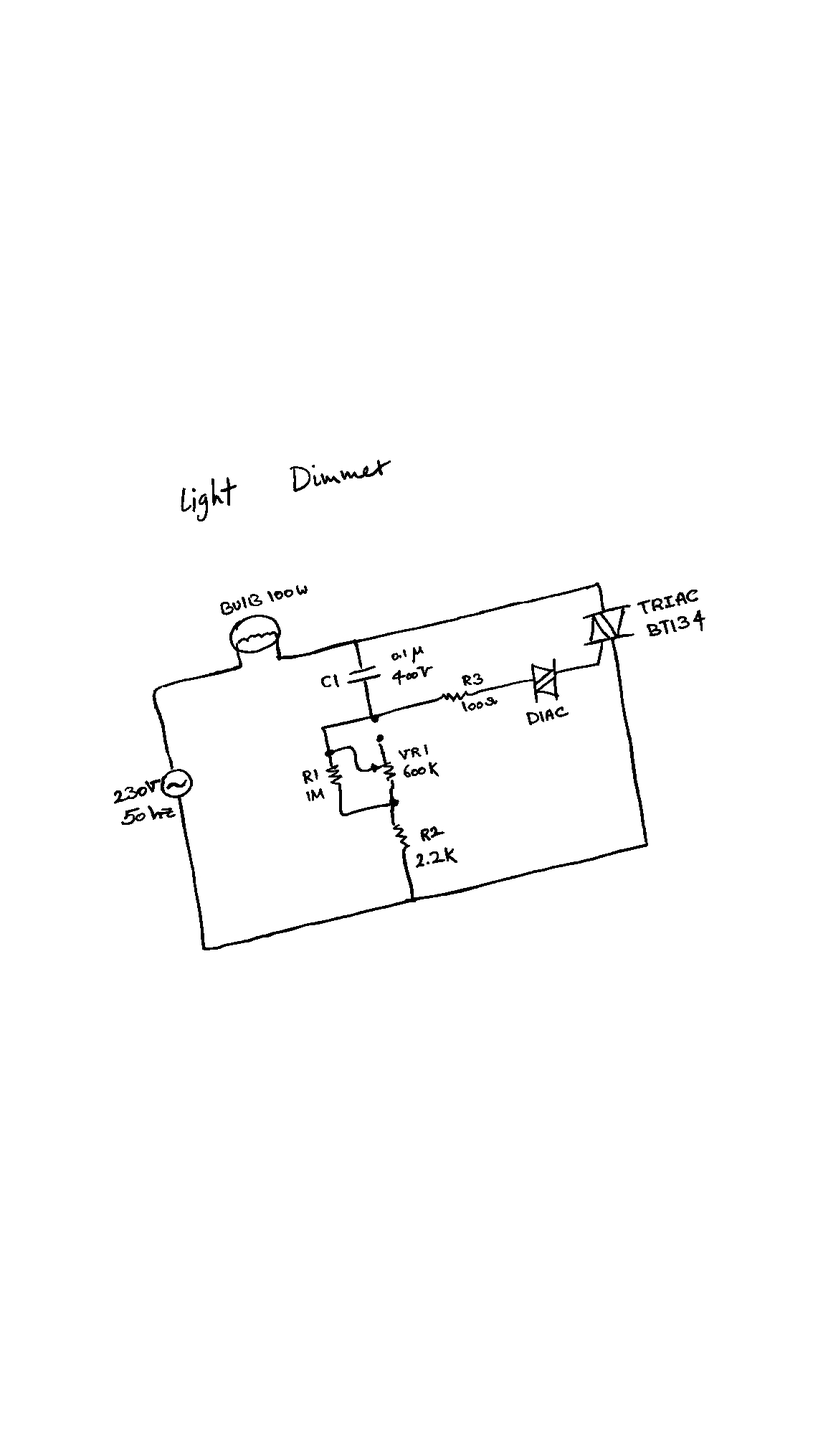capacitor.unpolarized: (346, 662, 384, 685)
diac: (529, 657, 561, 704)
junction: (150, 684, 168, 696), (366, 712, 381, 724), (406, 893, 421, 904), (387, 796, 399, 808), (375, 732, 386, 745), (323, 747, 337, 757), (355, 765, 366, 775), (338, 809, 350, 818), (200, 944, 212, 953), (235, 661, 245, 671), (642, 839, 652, 849), (594, 580, 604, 590), (275, 654, 285, 663), (594, 659, 603, 668), (318, 724, 328, 732), (351, 638, 361, 646), (346, 745, 357, 751)
lamp: (228, 613, 282, 655)
resistor: (389, 822, 412, 853), (437, 689, 472, 702), (326, 763, 344, 788)
resistor.adjustable: (370, 757, 398, 785)
text: (177, 453, 394, 524), (219, 583, 310, 616), (637, 587, 699, 614), (645, 610, 705, 637), (119, 803, 177, 827), (112, 778, 161, 804), (414, 846, 460, 869), (525, 705, 570, 727), (390, 665, 434, 686), (402, 760, 440, 779), (460, 695, 500, 713), (391, 644, 426, 664), (396, 743, 431, 760), (419, 825, 446, 841), (460, 671, 485, 687), (319, 672, 341, 689), (301, 767, 320, 785), (304, 787, 325, 803)
triac: (579, 603, 636, 656)
voltage.ac: (160, 767, 195, 800)
